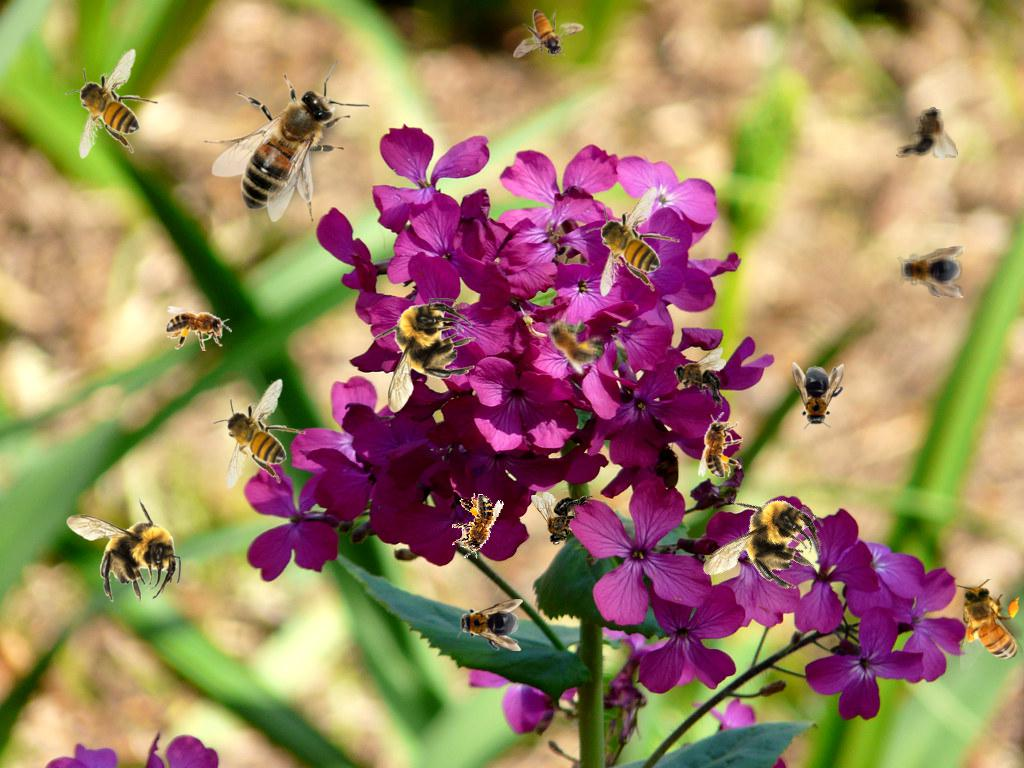Bee: (203, 60, 370, 222), (684, 468, 841, 625), (66, 496, 181, 603), (369, 298, 476, 413), (65, 48, 159, 159), (586, 186, 680, 297), (212, 378, 306, 489), (955, 579, 1023, 672), (531, 301, 611, 378), (445, 489, 505, 564), (513, 9, 584, 59), (455, 599, 523, 651), (897, 246, 965, 298), (792, 362, 844, 430), (531, 492, 593, 545), (673, 347, 726, 409), (896, 107, 958, 160), (166, 306, 232, 351), (698, 412, 743, 478)
